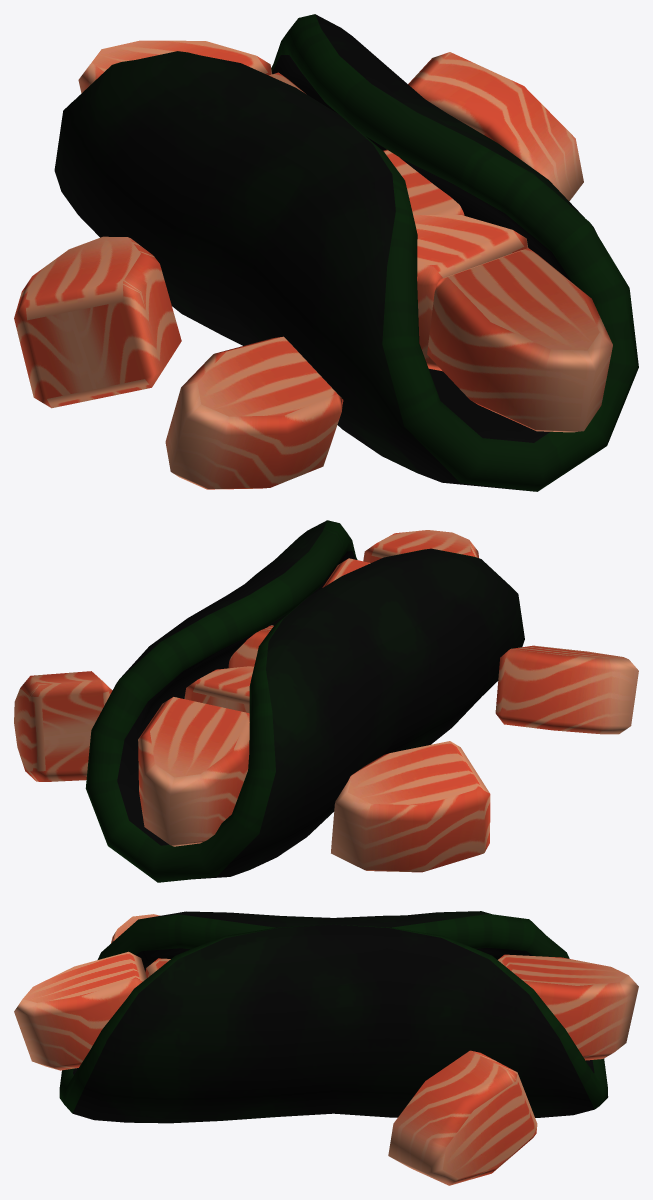
File: m_plated_seaweed_fish_01.fbx
3 renders of one model, top to bottom at view 1: azimuth 30°, elevation 25°; view 2: azimuth 150°, elevation 25°; view 3: azimuth 270°, elevation 25°, orthographic. The views are drawn at different scales.
Visible parts, largest first — view 1: m_plated_seaweed_fish_01_0, m_plated_seaweed_fish_01_1; view 2: m_plated_seaweed_fish_01_0, m_plated_seaweed_fish_01_1; view 3: m_plated_seaweed_fish_01_0, m_plated_seaweed_fish_01_1.
Part boxes in pixels (x1,y1,x2,y2): m_plated_seaweed_fish_01_0: (54,14,638,491); m_plated_seaweed_fish_01_1: (14,40,612,489); m_plated_seaweed_fish_01_0: (85,520,524,882); m_plated_seaweed_fish_01_1: (14,530,638,872); m_plated_seaweed_fish_01_0: (59,911,608,1123); m_plated_seaweed_fish_01_1: (14,914,638,1185).
Bounding box in the file's own units: 0.7686 × 0.3451 × 0.9628.
